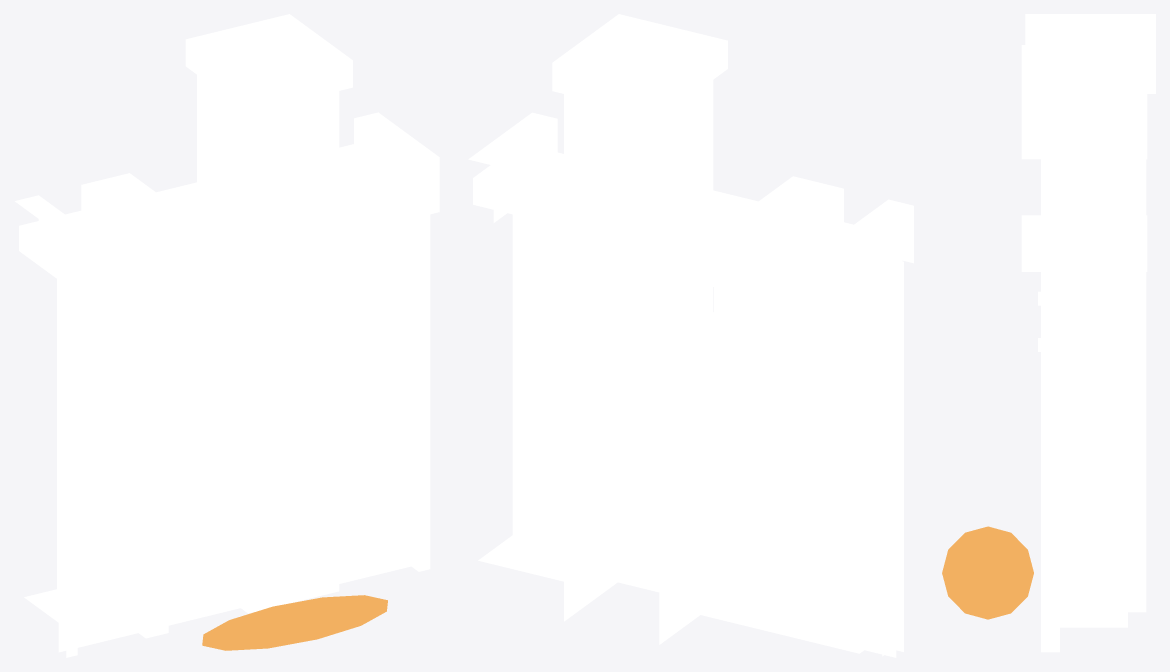
The model's file is T1_Mid_A.glb.
3 renders of one model, left to right at view 1: azimuth 30°, elevation 25°; view 2: azimuth 150°, elevation 25°; view 3: azimuth 270°, elevation 25°, orthographic. The views are drawn at different scales.
Visible parts, largest first — view 1: T1_Mid_A; view 2: T1_Mid_A; view 3: T1_Mid_A.
Boxes of the visible parts, <box> form: T1_Mid_A: <box>15,14,439,657</box>; T1_Mid_A: <box>468,14,913,657</box>; T1_Mid_A: <box>942,14,1155,652</box>.
Size of the model in its own units: 4.5 by 6.32 by 2.23.
